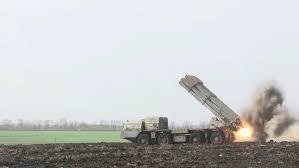MIL_SAM_TEL: (122, 71, 240, 143)
